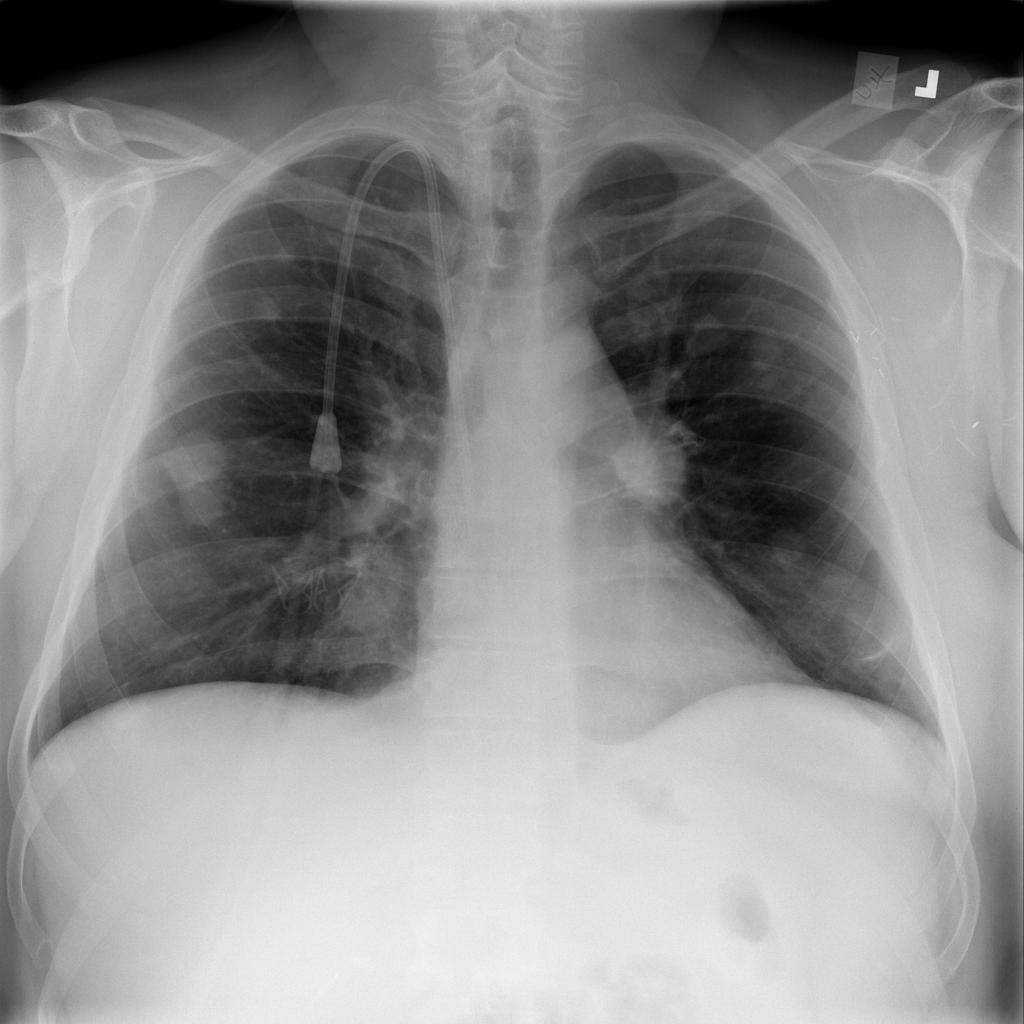nodule: (147, 401, 249, 540), (592, 412, 705, 518), (322, 539, 423, 647), (750, 512, 825, 587), (257, 237, 310, 283), (240, 287, 292, 333)
